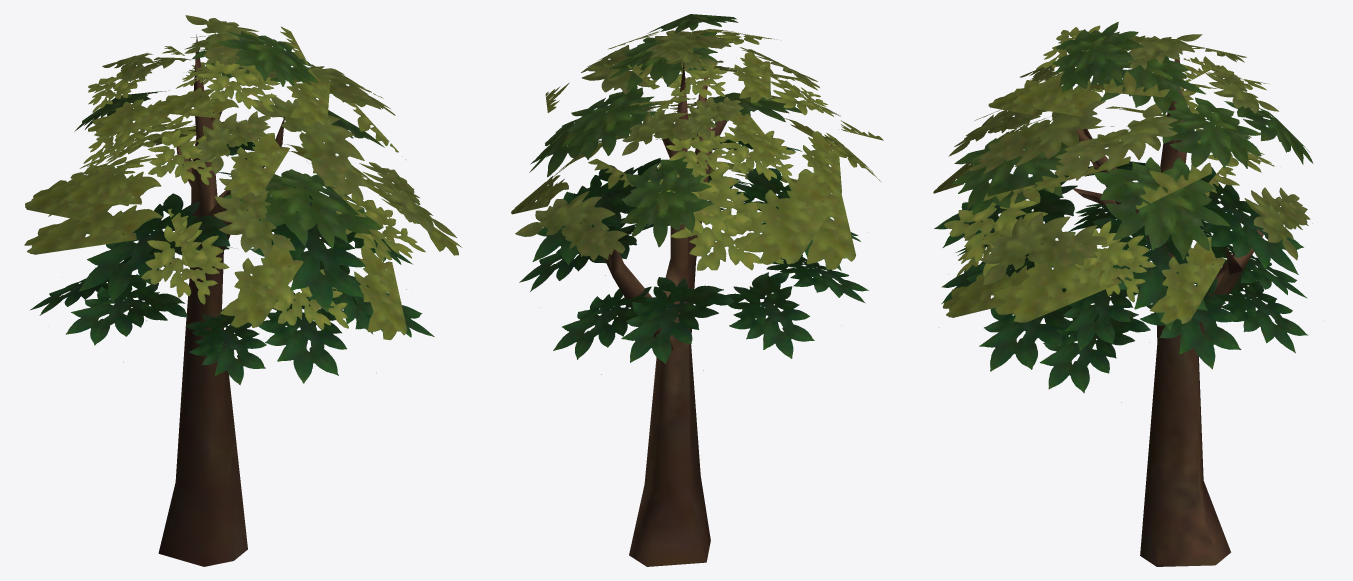
The model's file is tree_B.fbx.
The picture shows the model from 3 angles, left to right: view 1: azimuth 30°, elevation 25°; view 2: azimuth 150°, elevation 25°; view 3: azimuth 270°, elevation 25°; orthographic projection. The views are drawn at different scales.
Visible parts, largest first — view 1: leaves_E, trunk_E; view 2: leaves_E, trunk_E; view 3: leaves_E, trunk_E.
Part boxes in pixels (box(x1,y1,x2,y2)): leaves_E: box(24, 15, 462, 385); trunk_E: box(158, 34, 284, 566); leaves_E: box(511, 14, 883, 374); trunk_E: box(601, 62, 739, 566); leaves_E: box(933, 22, 1313, 402); trunk_E: box(1073, 53, 1282, 566).
Size of the model in its own units: 5.82 by 8.06 by 5.78.
